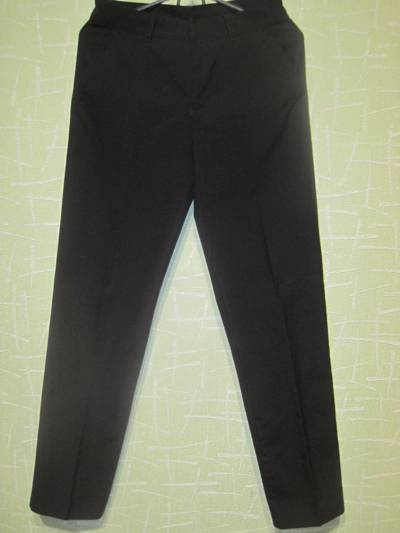Pants: (36, 9, 357, 531)
